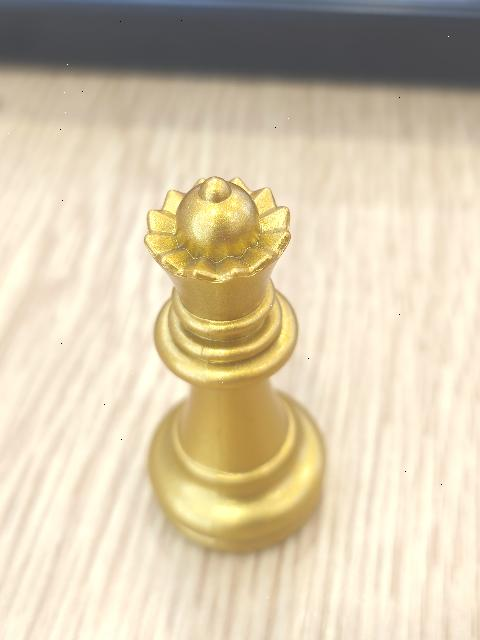black_queen: (141, 175, 322, 553)
